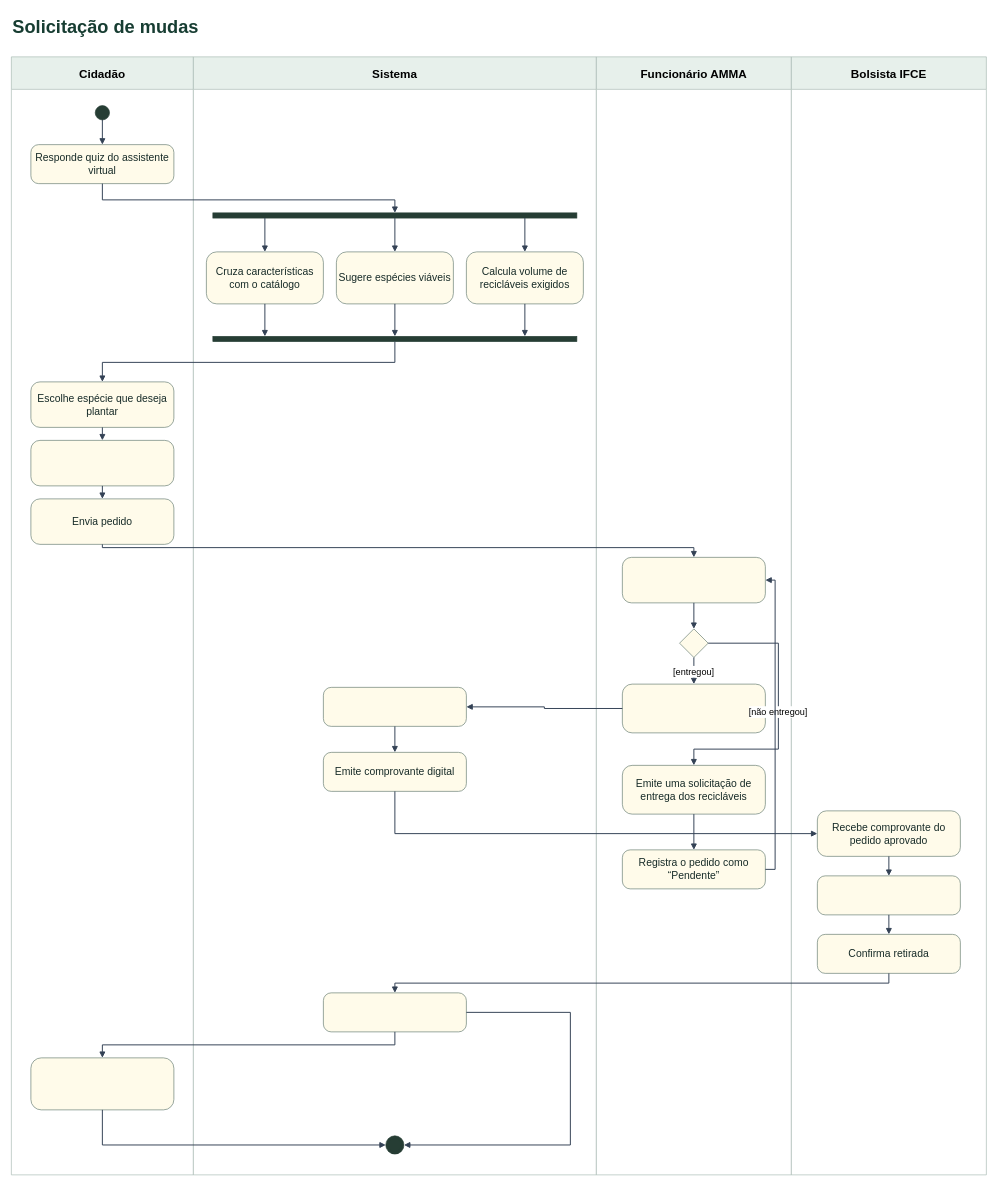
Image size: 998x1186. Some labels were removed from this diagram. The shapes that lost their labels are listed below. From the top down, each one's centre as x and y in pixels, then its label:
the point at 102,463: Informa endereço
the point at 693,580: Verifica se cidadão entregou os materiais recicláveis
the point at 394,706: Registra o pedido como “Aprovado”
the point at 693,708: Registra e valida o recebimento dos recicláveis
the point at 888,895: Entrega a muda física
the point at 394,1012: Dá baixa no estoque do viveiro
the point at 102,1083: Registra com foto o plantio da muda em seu imóvel
